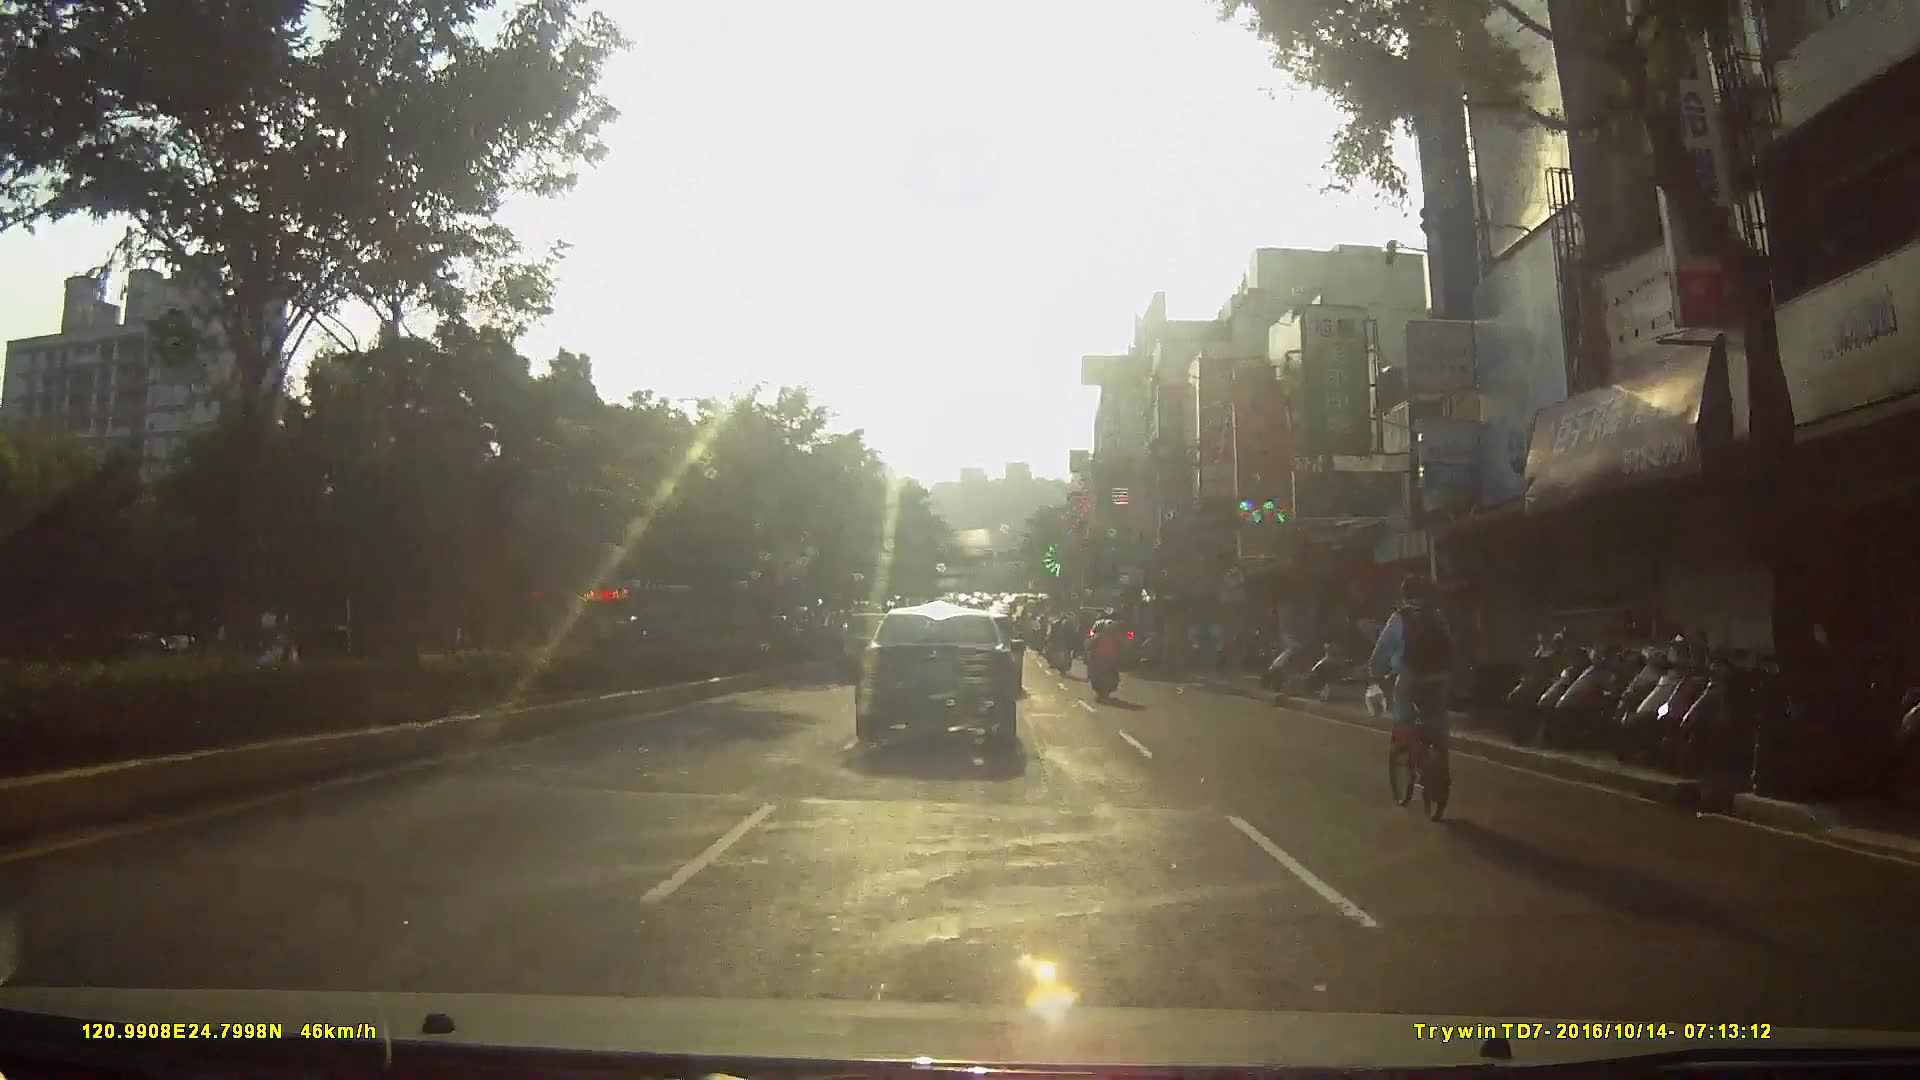rider: (1366, 571, 1460, 820), (1084, 622, 1122, 711), (1047, 617, 1074, 676)
vehicle: (851, 601, 1034, 767)
